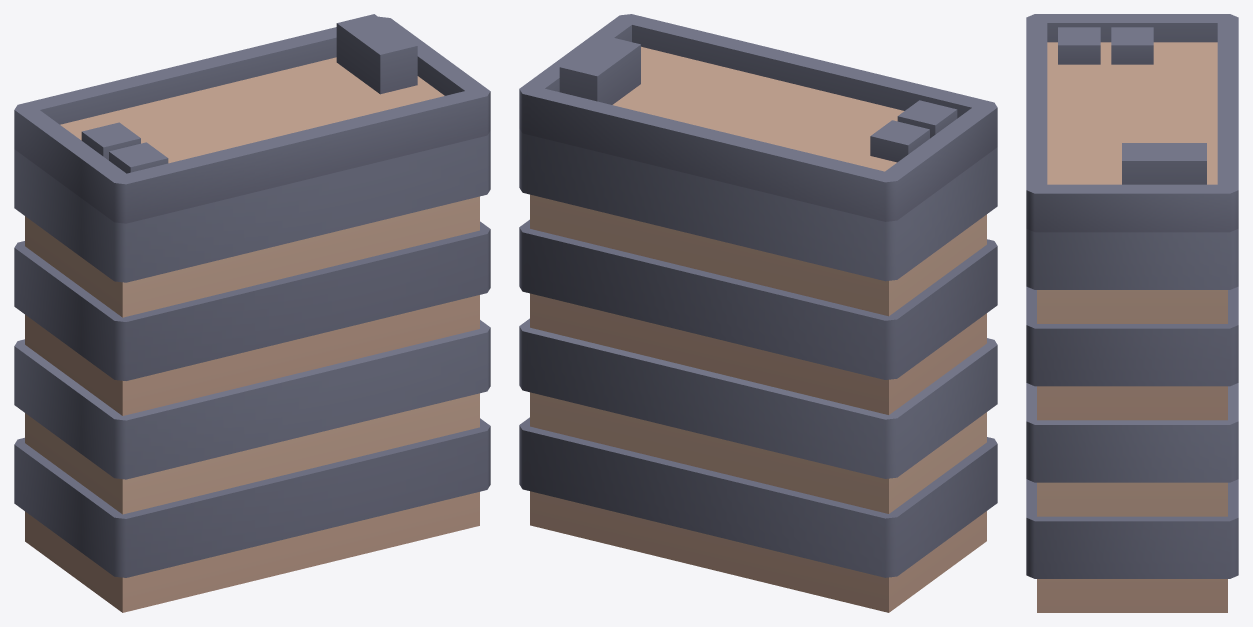
File: cp-low-wide-b.glb
The picture shows the model from 3 angles, left to right: view 1: azimuth 30°, elevation 25°; view 2: azimuth 150°, elevation 25°; view 3: azimuth 270°, elevation 25°; orthographic projection. The views are drawn at different scales.
Parts seen in each view (by area): view 1: low-detail-building-wide-b; view 2: low-detail-building-wide-b; view 3: low-detail-building-wide-b.
Boxes of the visible parts, x1=… form: low-detail-building-wide-b: x1=14, y1=14, x2=490, y2=612; low-detail-building-wide-b: x1=519, y1=14, x2=997, y2=612; low-detail-building-wide-b: x1=1026, y1=14, x2=1238, y2=612.
Size of the model in its own units: 1 by 1.15 by 0.5.
Materials: 1 (1 with a texture image).
